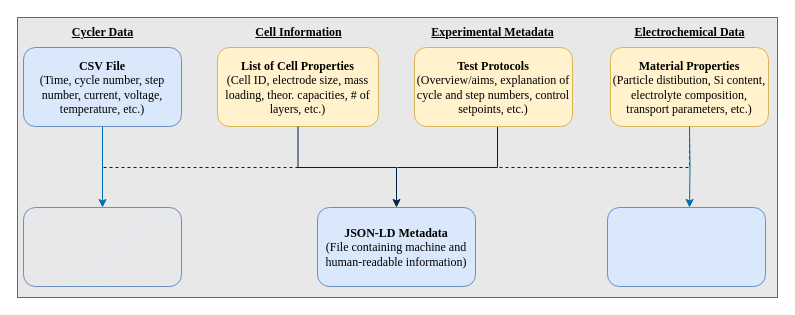
Some shapes in this 795 by 315 pixel diagram are drawn without their labels. Each missing label, with the centre of its shape:
BattINFO or BPX File (A set of battery model parameters): (x=686, y=246)
Parquet Container (Compressed cycler data): (x=102, y=246)
